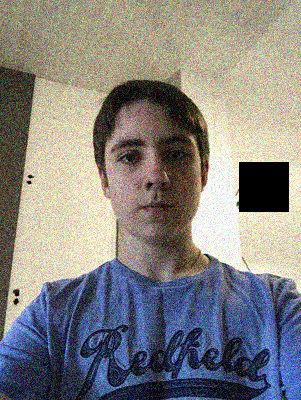without_mask: (107, 129, 202, 245)
